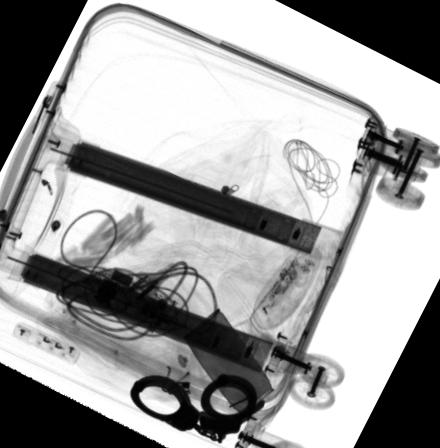HandCuffs: (127, 371, 266, 447)
